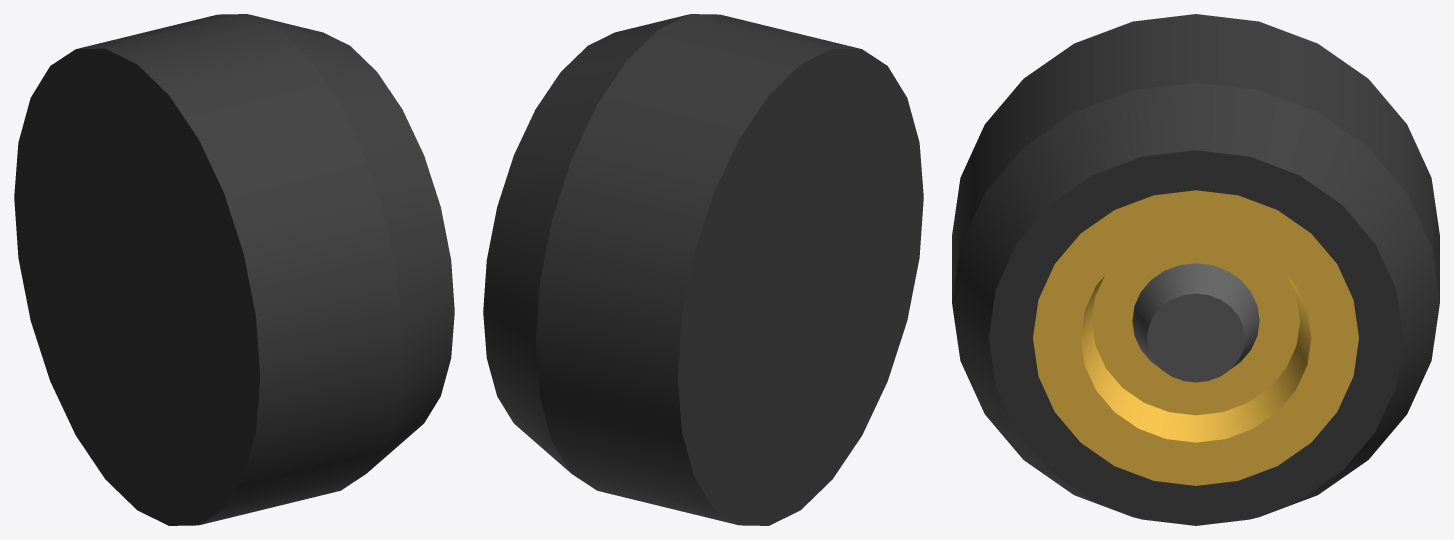
Rendered from wheelTractorBack.fbx.
3 views of the same model, side by side, from view 1: azimuth 30°, elevation 25°; view 2: azimuth 150°, elevation 25°; view 3: azimuth 270°, elevation 25° (orthographic).
Visible parts, largest first — view 1: wheelTractorBack; view 2: wheelTractorBack; view 3: wheelTractorBack.
Part boxes in pixels (<box>): wheelTractorBack: <box>14,14,454,525</box>; wheelTractorBack: <box>483,14,923,525</box>; wheelTractorBack: <box>952,14,1439,525</box>.
Size of the model in its own units: 4.38 by 8.75 by 8.75.
